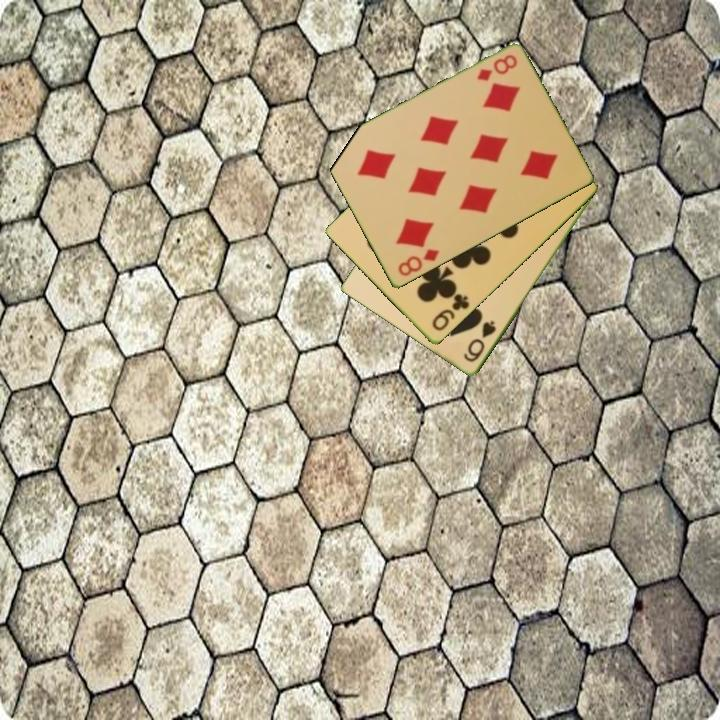6s: (460, 318, 499, 366)
8d: (394, 246, 442, 280), (473, 51, 520, 85)
9c: (428, 290, 473, 334)
